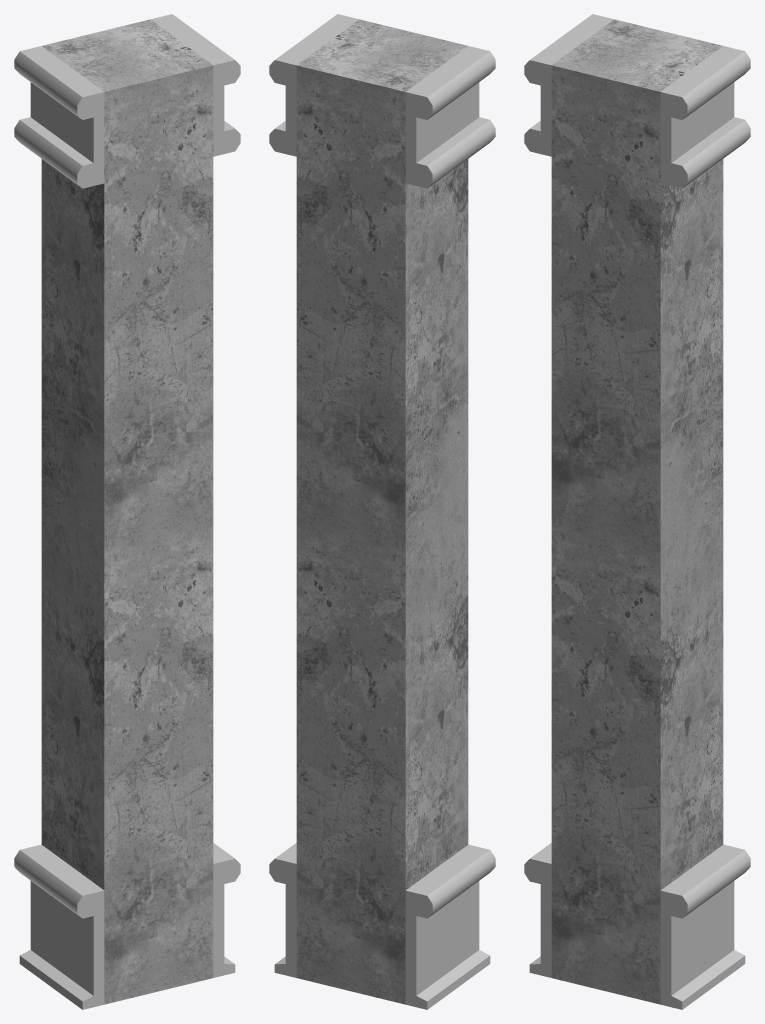
Rendered from SM_Wallkit_Proc_01a.fbx.
The picture shows the model from 3 angles, left to right: view 1: azimuth 30°, elevation 25°; view 2: azimuth 150°, elevation 25°; view 3: azimuth 330°, elevation 25°; orthographic projection.
Parts seen in each view (by area): view 1: SM_Wallkit_Proc_01a_LOD0; view 2: SM_Wallkit_Proc_01a_LOD0; view 3: SM_Wallkit_Proc_01a_LOD0.
Boxes of the visible parts, left/top/right/bottom form: SM_Wallkit_Proc_01a_LOD0: left=14, top=14, right=240, bottom=1009; SM_Wallkit_Proc_01a_LOD0: left=269, top=14, right=495, bottom=1009; SM_Wallkit_Proc_01a_LOD0: left=524, top=14, right=750, bottom=1009.
Bounding box in the file's own units: 150 × 100 × 800.
